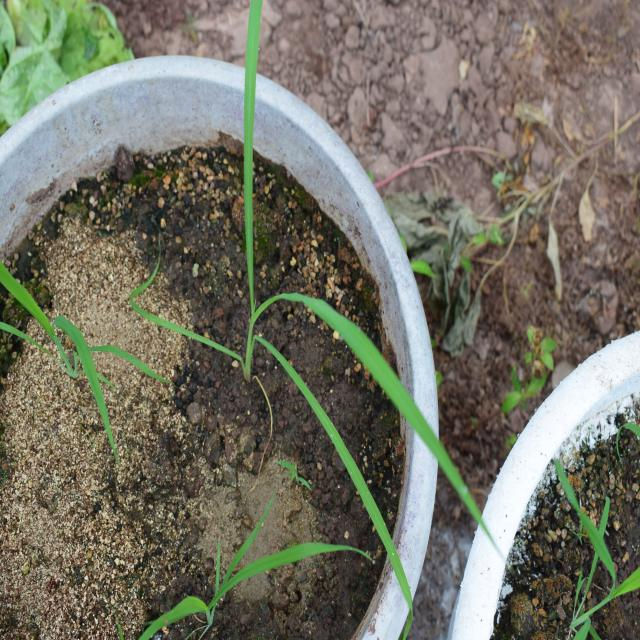barnyard_grass: (190, 40, 486, 554)
